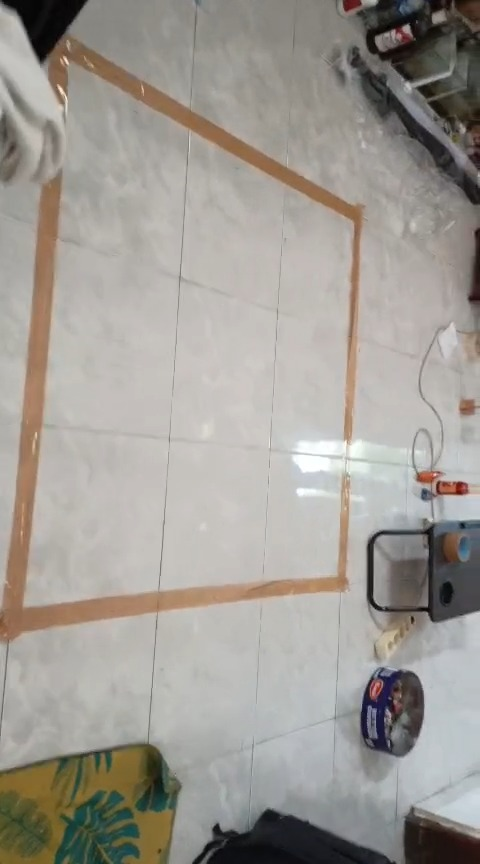floor marking: (0, 175, 350, 641), (48, 38, 361, 448)
